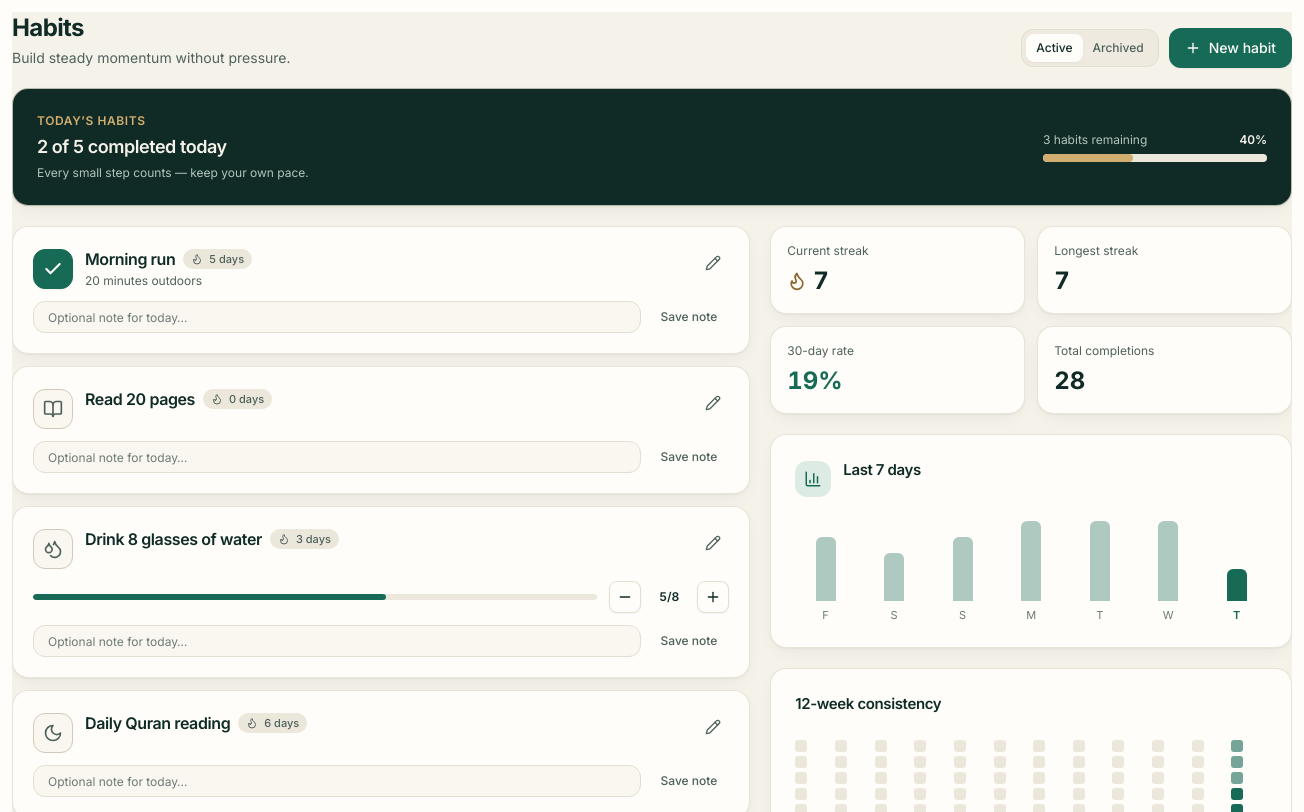
Test: HabitsPage › renders habits, analytics, and increments partial progress
Expected: the heading "Morning run" is shown, [85, 247, 175, 271]
Expected: the heading "Drink 8 glasses of water" is shown, [85, 527, 262, 551]
Click the button named "+1" at (713, 597), box [697, 581, 729, 613]
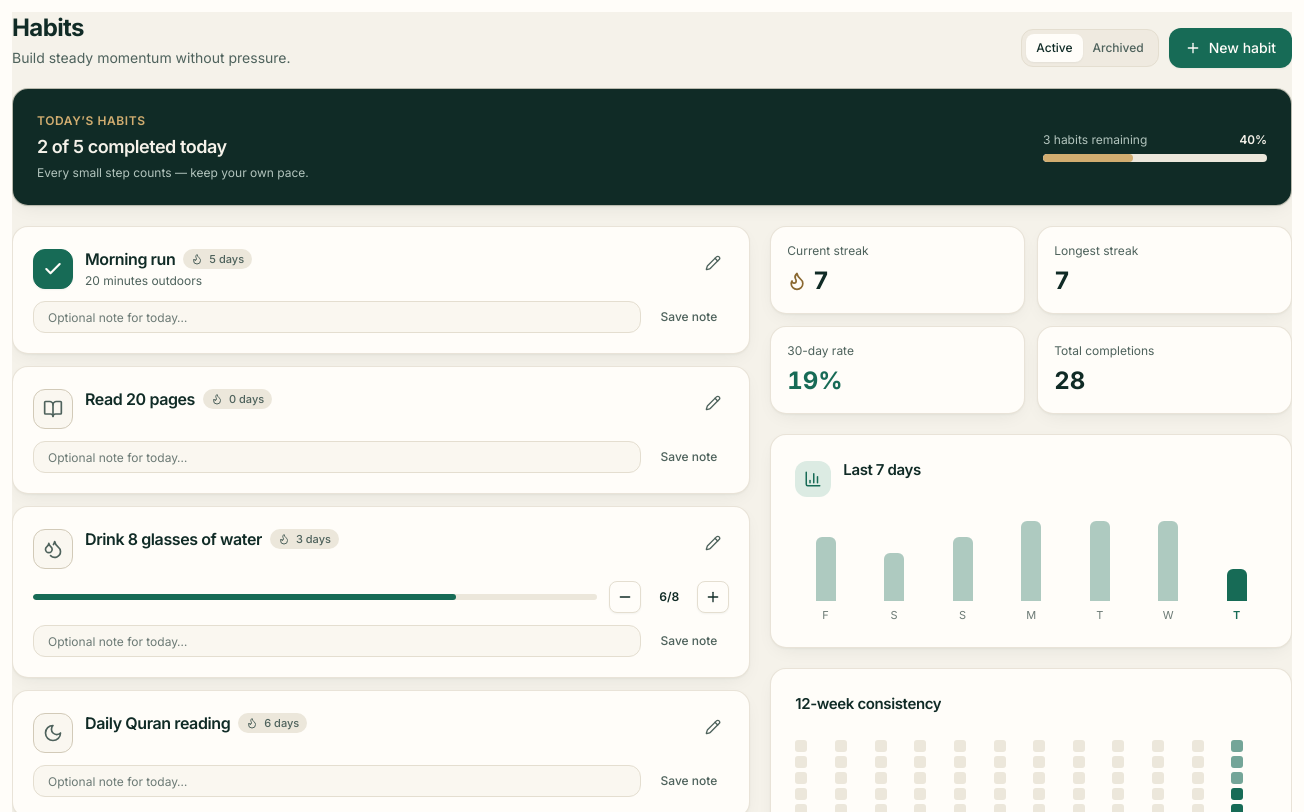
Expected: the text "6/8" is shown, [659, 589, 679, 604]
